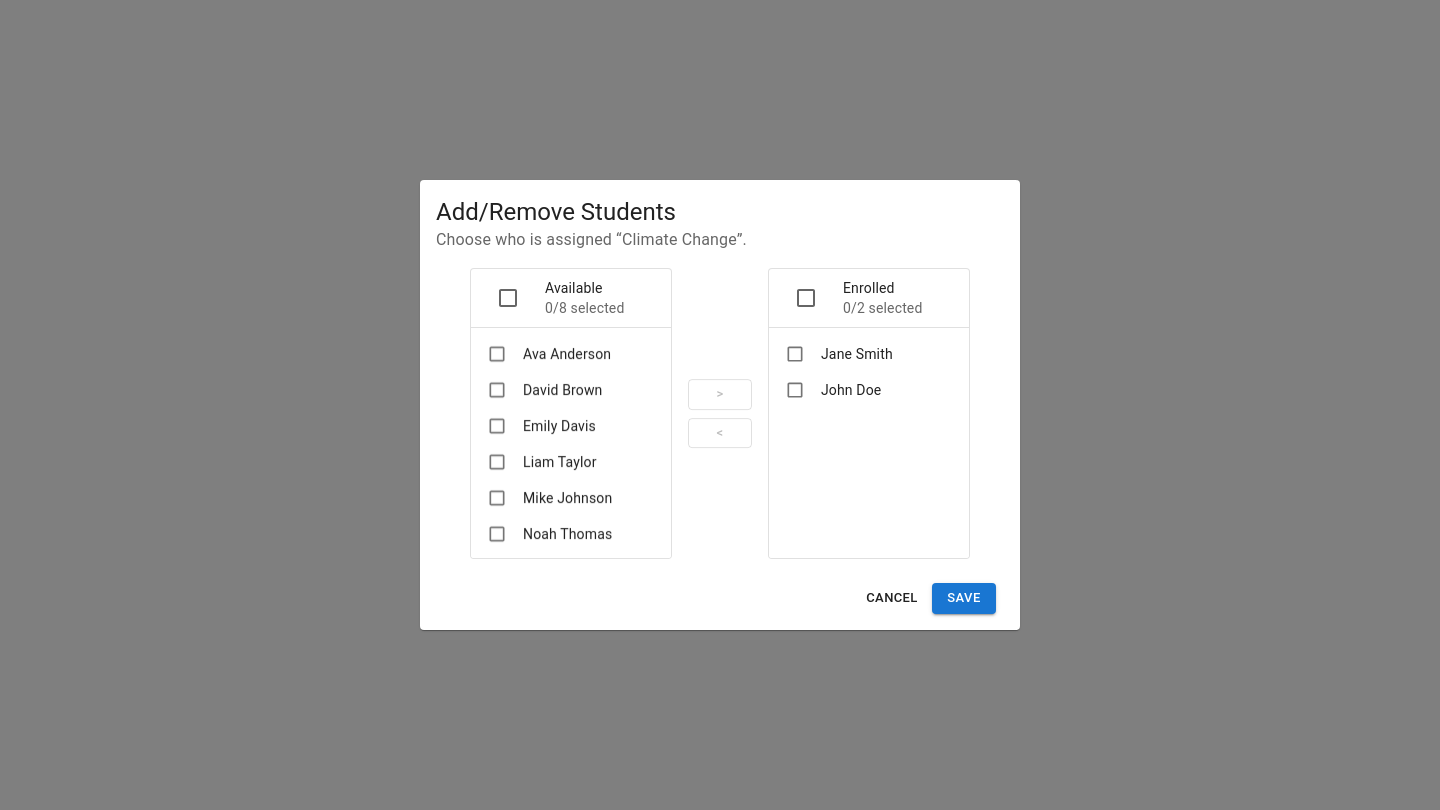
it: AddStudentsModal — moving students › moves a whole column with the select-all box
Expected: the checkbox labelled "Jane Smith" is shown, [785, 344, 893, 364]
Click the checkbox named "select all enrolled".
click(806, 298)  # box [794, 286, 818, 310]
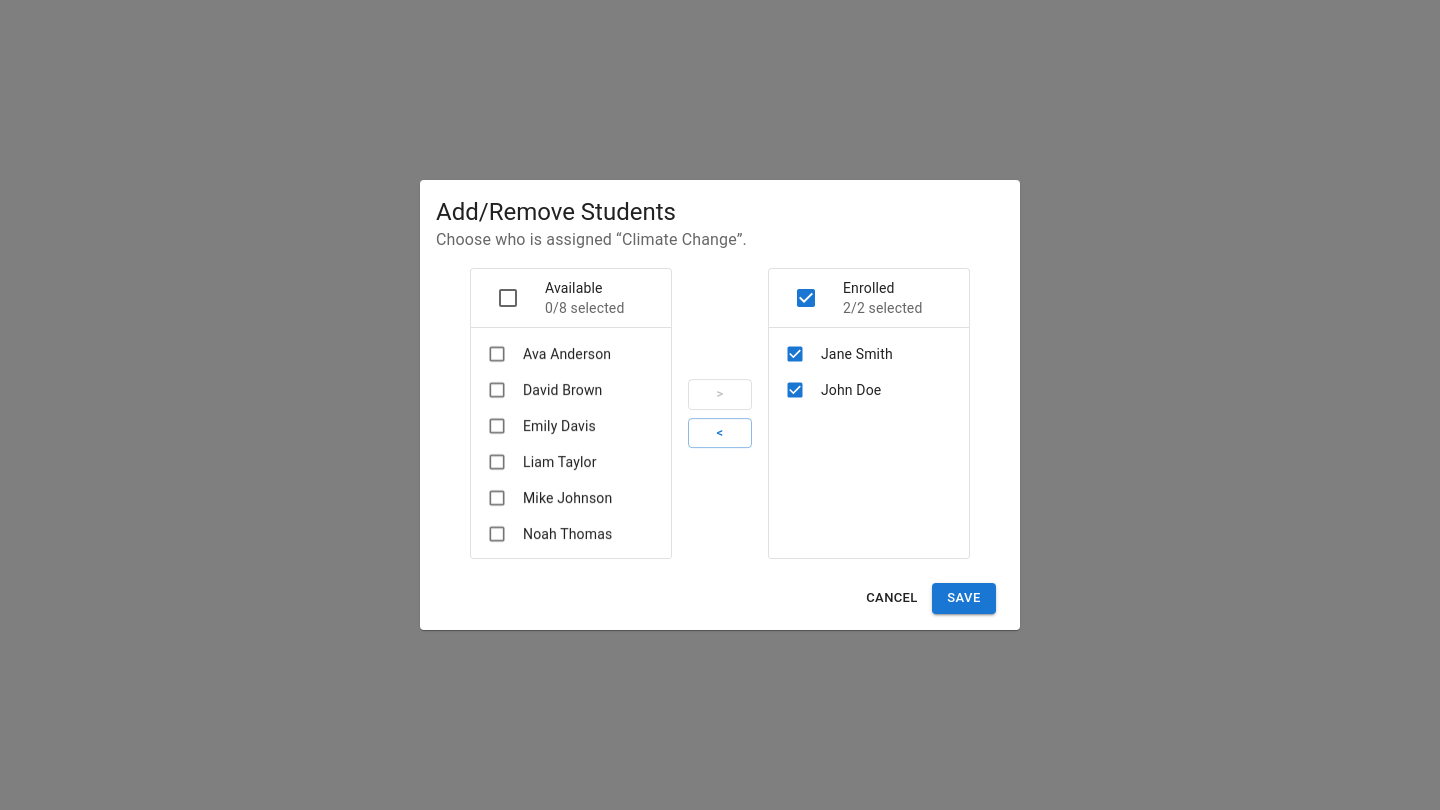
Click the button named "remove selected".
click(720, 433)  # box [688, 418, 752, 448]
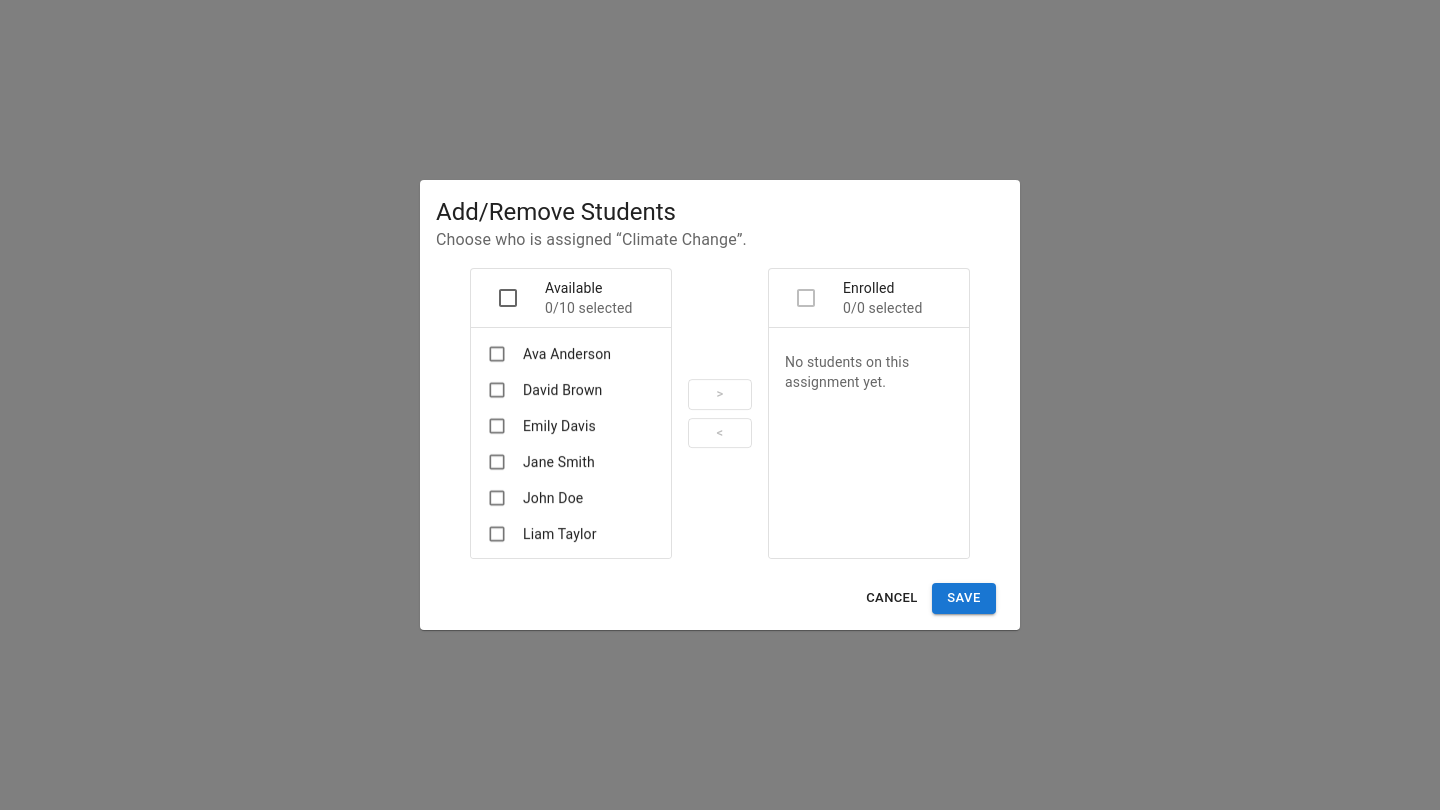
Now the text "No students on this assignment yet." is shown, box [785, 354, 909, 390]
